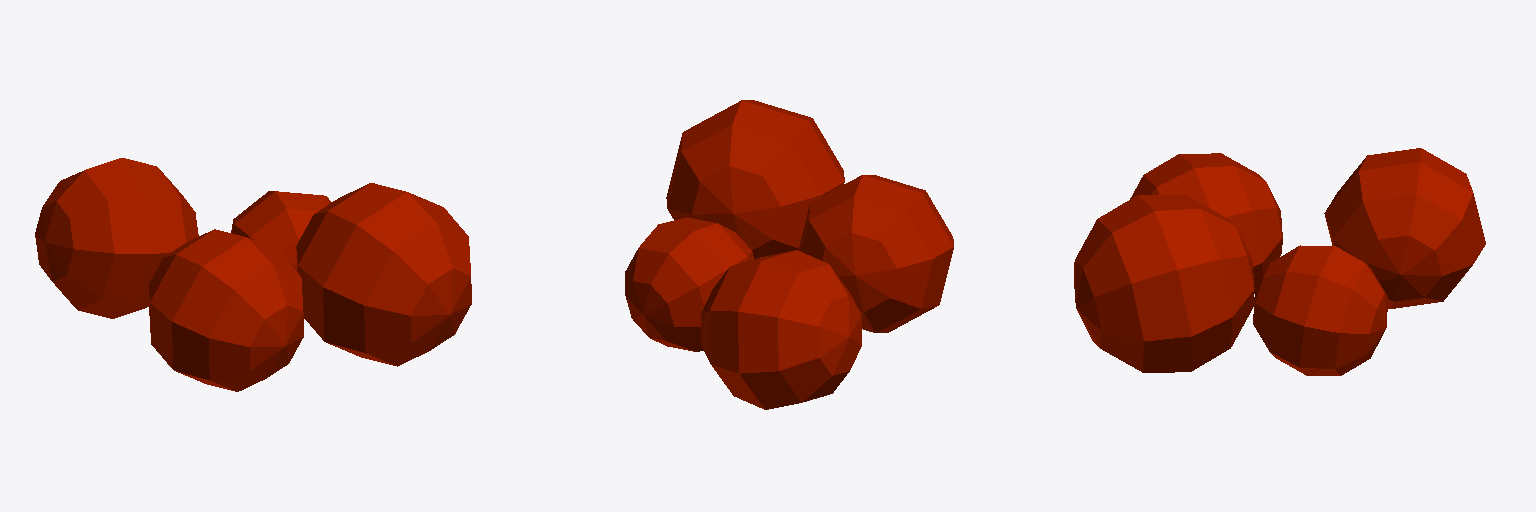
Rendered from orange1.obj.
The picture shows the model from 3 angles: view 1: azimuth 30°, elevation 25°; view 2: azimuth 150°, elevation 25°; view 3: azimuth 270°, elevation 25°; orthographic projection.
Parts seen in each view (by area): view 1: Cube.013; view 2: Cube.013; view 3: Cube.013.
Boxes of the visible parts, box(x1,y1,x2,y2) form: Cube.013: box(35, 158, 471, 391); Cube.013: box(625, 100, 953, 409); Cube.013: box(1074, 148, 1485, 375).
Size of the model in its own units: 0.8352 by 0.481 by 1.02.